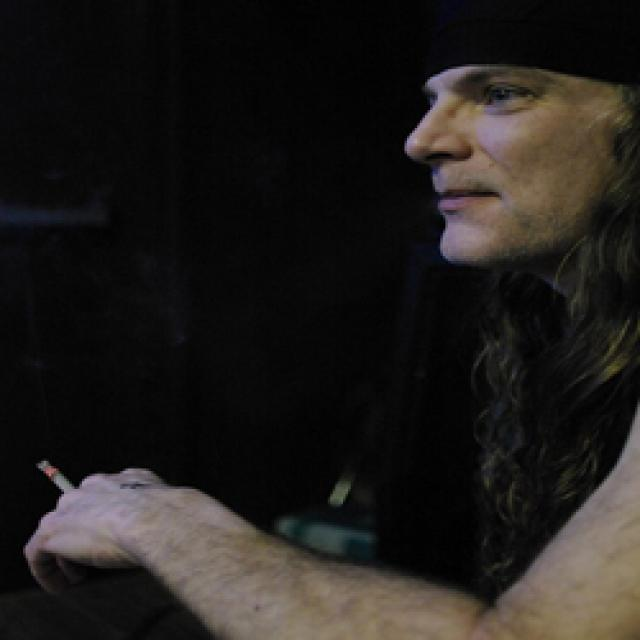Smooking: (36, 446, 76, 500)
